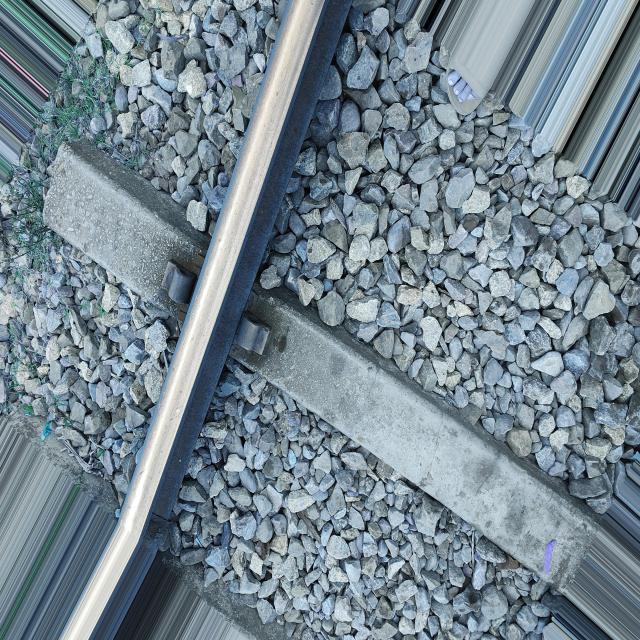Missing Fastener: (231, 300, 293, 372), (144, 247, 200, 313)
